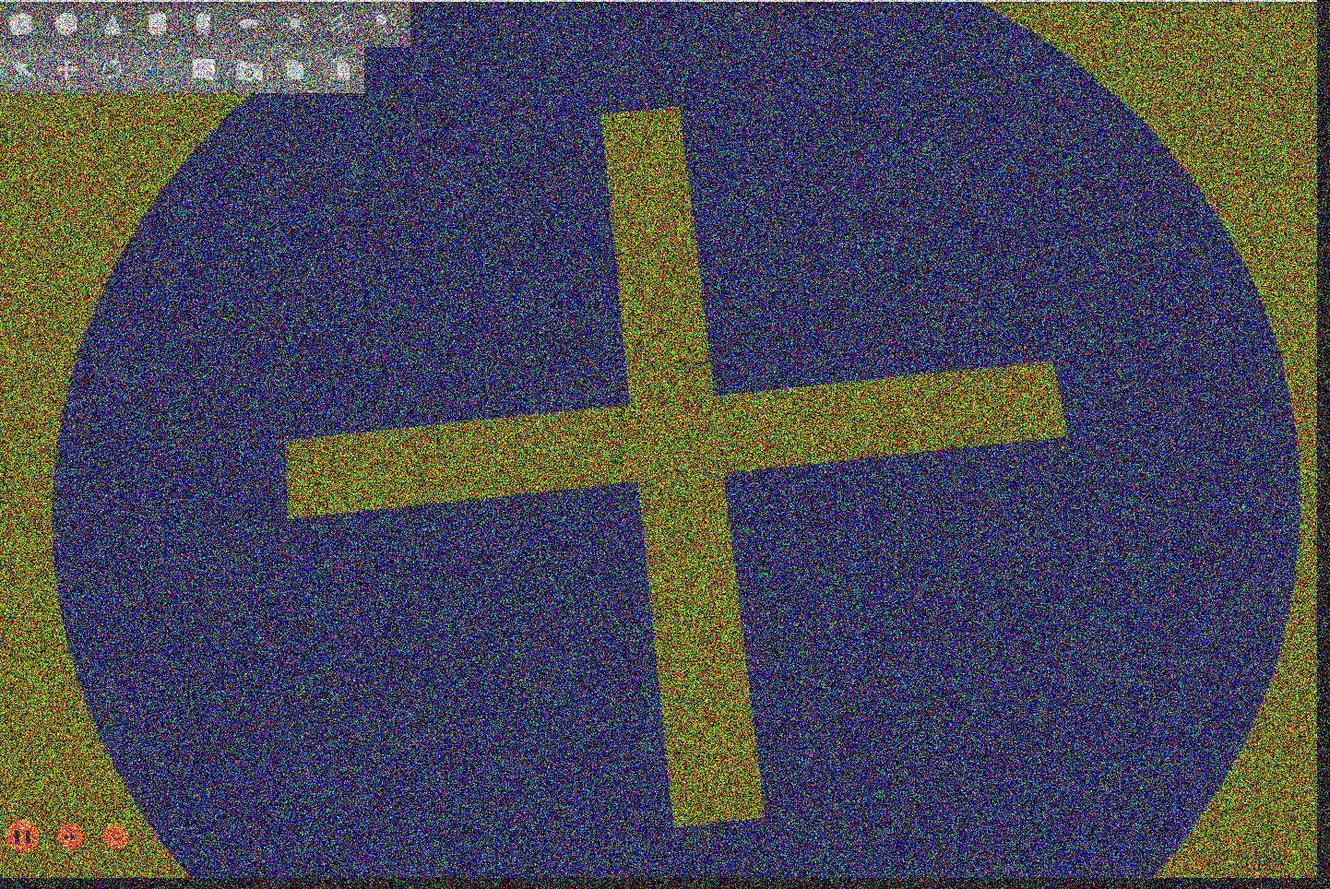large_base: (1, 6, 1320, 880)
